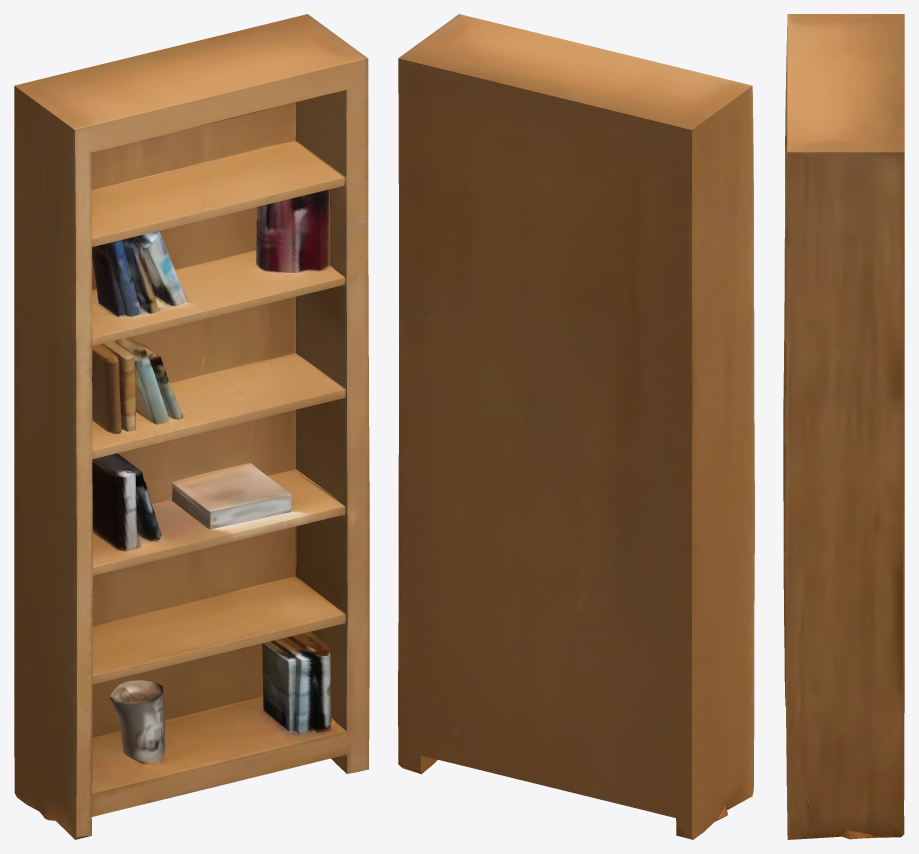
Rendered from bookshelf.glb.
3 views of the same model, side by side, from view 1: azimuth 30°, elevation 25°; view 2: azimuth 150°, elevation 25°; view 3: azimuth 270°, elevation 25° (orthographic). The views are drawn at different scales.
Visible parts, largest first — view 1: model; view 2: model; view 3: model.
Part boxes in pixels (x1,y1,x2,y2): model: [14, 14, 369, 839]; model: [398, 14, 754, 839]; model: [783, 14, 904, 839].
Size of the model in its own units: 0.8399 by 1.9 by 0.3048.
Materials: 1 (1 with a texture image).
